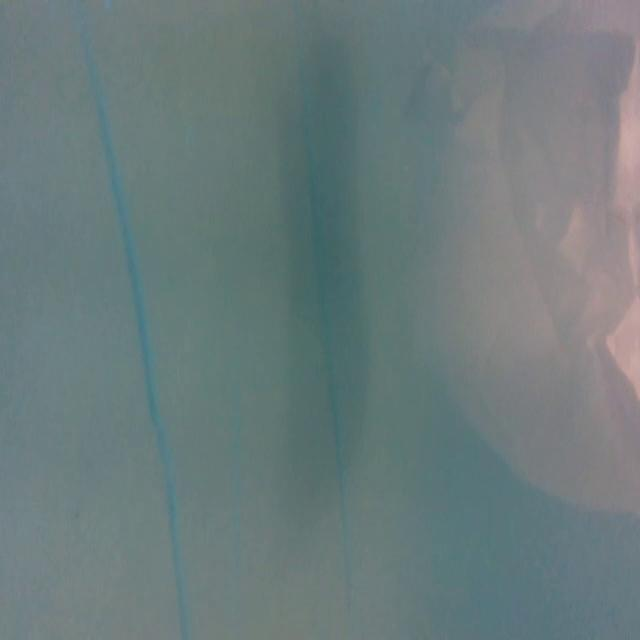plastic bags: (401, 7, 640, 525)
